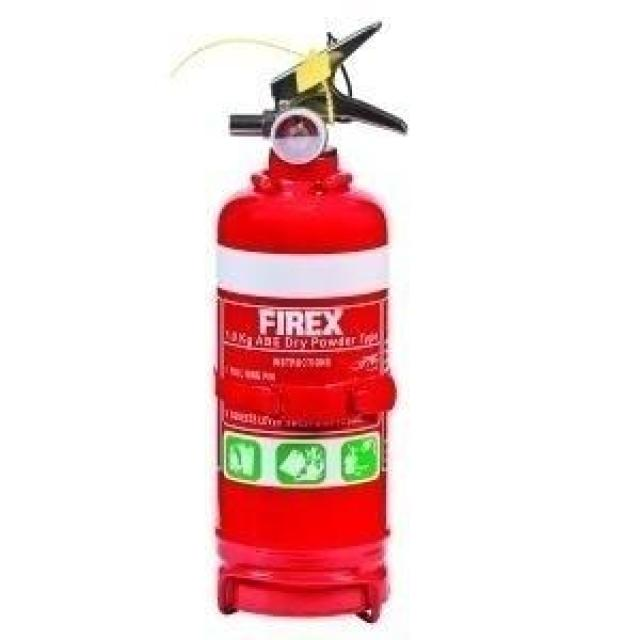fire_extinguisher: (202, 16, 412, 626)
